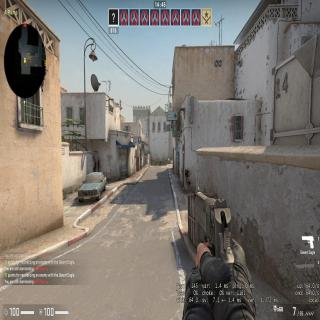CT-Body: (159, 159, 161, 166)
CT-Head: (160, 159, 160, 161)
